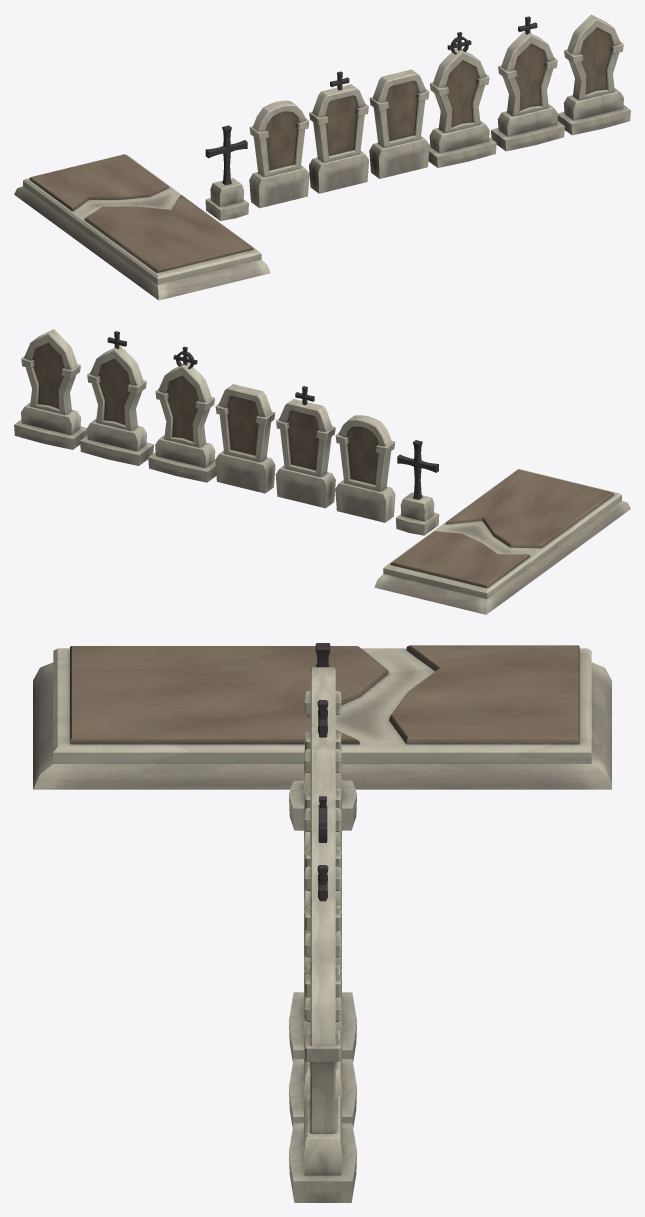
Rendered from Graveyard.fbx.
The picture shows the model from 3 angles, top to bottom: view 1: azimuth 30°, elevation 25°; view 2: azimuth 150°, elevation 25°; view 3: azimuth 270°, elevation 25°; orthographic projection. The views are drawn at different scales.
Parts seen in each view (by area): view 1: GraveBase, GraveType1ComplexCross, GraveType1SimpleCross, GraveType1, GraveType2SimpleCross, GraveType2, GraveType3, GraveType4; view 2: GraveBase, GraveType1ComplexCross, GraveType1SimpleCross, GraveType1, GraveType2SimpleCross, GraveType2, GraveType3, GraveType4; view 3: GraveBase, GraveType1, GraveType1SimpleCross, GraveType1ComplexCross, GraveType2SimpleCross, GraveType3, GraveType4, GraveType2.
Boxes of the visible parts, x1,y1,x2,y2 form: GraveBase: [14, 154, 270, 300]; GraveType1ComplexCross: [428, 32, 496, 167]; GraveType1SimpleCross: [491, 16, 564, 151]; GraveType1: [557, 14, 630, 135]; GraveType2SimpleCross: [309, 71, 368, 193]; GraveType2: [369, 69, 429, 178]; GraveType3: [249, 100, 309, 208]; GraveType4: [205, 125, 248, 220]; GraveBase: [374, 469, 630, 614]; GraveType1ComplexCross: [148, 346, 216, 482]; GraveType1SimpleCross: [80, 331, 153, 465]; GraveType1: [14, 329, 87, 449]; GraveType2SimpleCross: [275, 386, 335, 508]; GraveType2: [215, 384, 275, 493]; GraveType3: [335, 415, 395, 522]; GraveType4: [396, 440, 439, 535]; GraveBase: [33, 645, 611, 789]; GraveType1: [288, 961, 357, 1202]; GraveType1SimpleCross: [288, 865, 357, 1127]; GraveType1ComplexCross: [288, 796, 357, 1062]; GraveType2SimpleCross: [304, 700, 341, 911]; GraveType3: [304, 667, 341, 852]; GraveType4: [288, 643, 357, 830]; GraveType2: [304, 779, 341, 970].
Size of the model in its own units: 698 by 153 by 326.
1 material, 1 textured.
